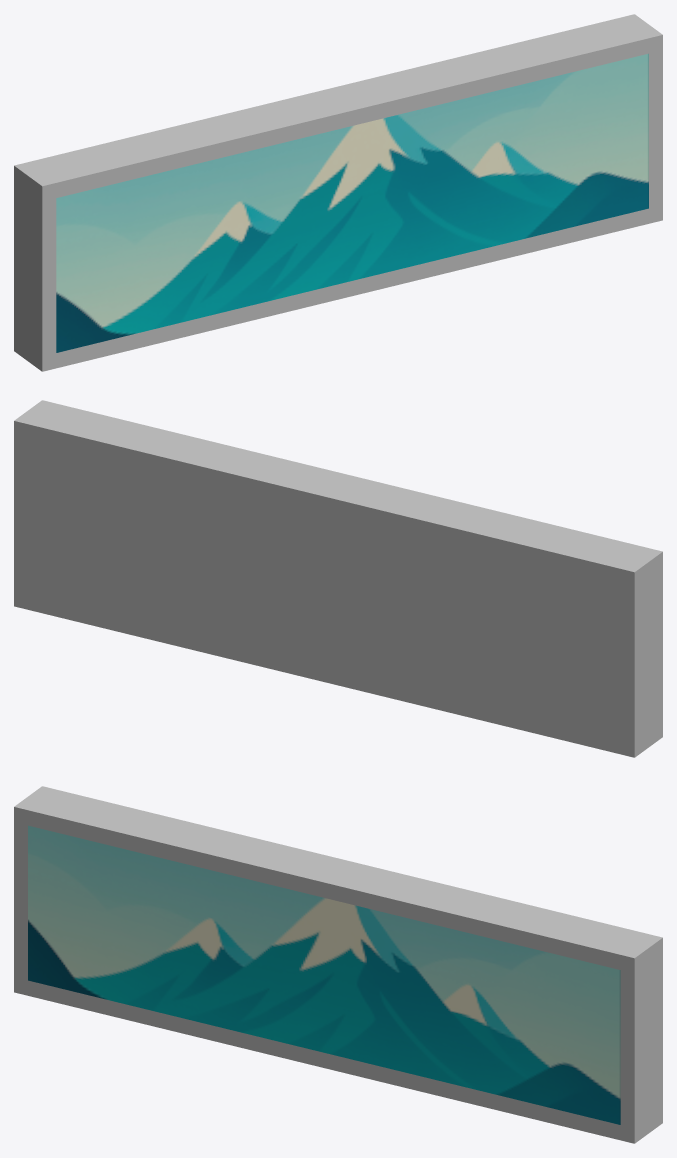
Rendered from Billboard_4x1_03.fbx.
3 renders of one model, top to bottom at view 1: azimuth 30°, elevation 25°; view 2: azimuth 150°, elevation 25°; view 3: azimuth 330°, elevation 25°, orthographic.
Visible parts, largest first — view 1: Billboard_4x1_03; view 2: Billboard_4x1_03; view 3: Billboard_4x1_03.
Boxes of the visible parts, <box> form: Billboard_4x1_03: <box>14,14,662,371</box>; Billboard_4x1_03: <box>14,400,662,757</box>; Billboard_4x1_03: <box>14,786,662,1143</box>.
Bounding box in the file's own units: 962 × 75.97 × 275.
